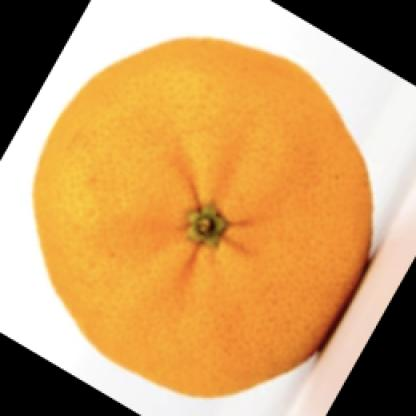fresh: (37, 44, 370, 401)
